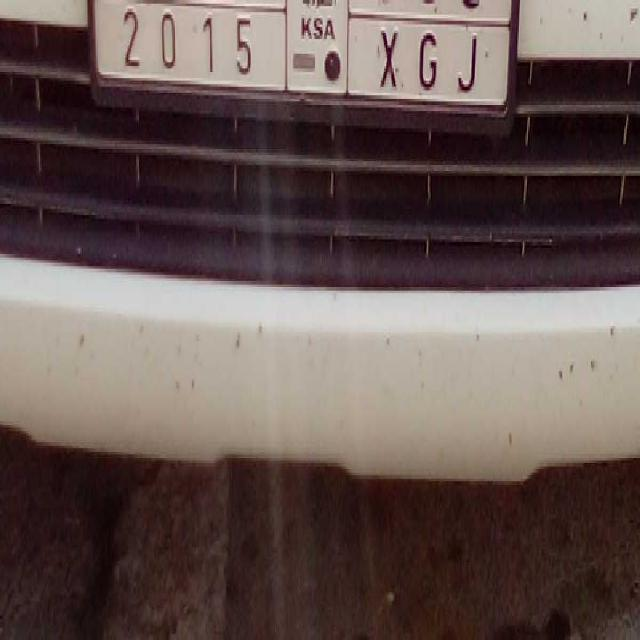license_plate: (97, 0, 512, 128)
